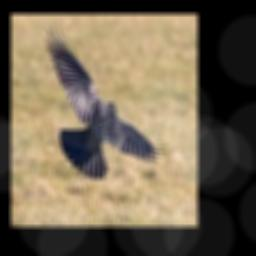Crow: (43, 21, 166, 179)
